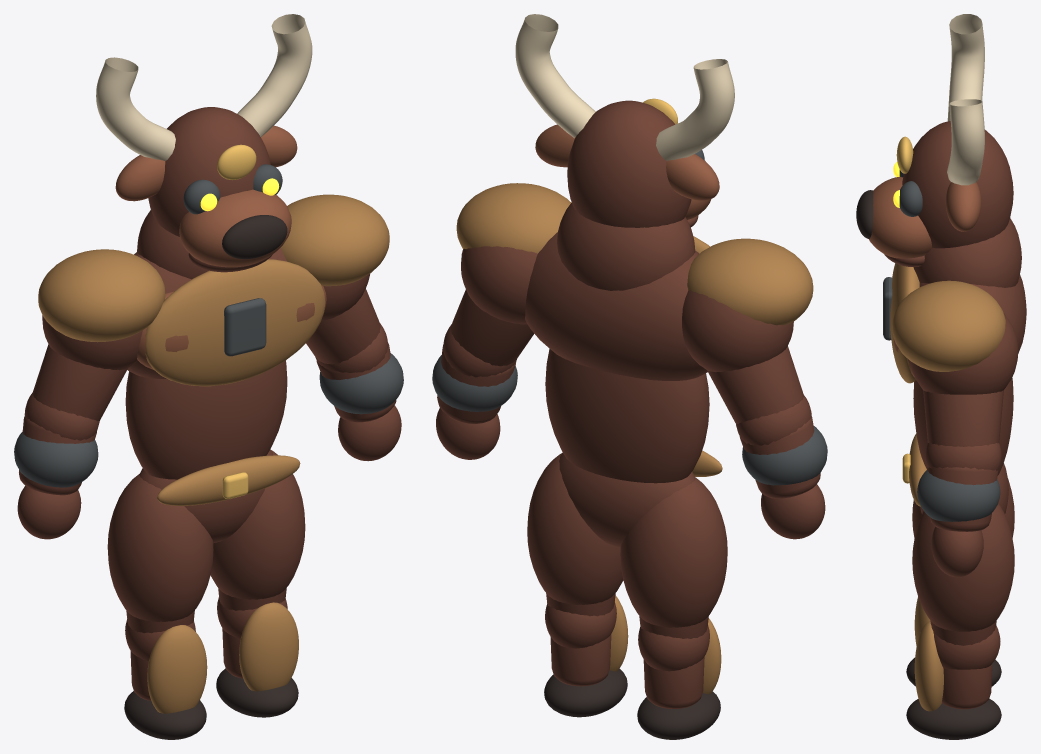
File: MinotaurModel.fbx
3 renders of one model, left to right at view 1: azimuth 30°, elevation 25°; view 2: azimuth 150°, elevation 25°; view 3: azimuth 270°, elevation 25°, orthographic. The views are drawn at different scales.
Visible parts, largest first — view 1: Bronze Chest Armour, Abdomen, Thigh Muscle, Bronze Shoulder Plate, Thigh Muscle.001, Bronze Shoulder Plate.001, Bull Head, Muzzle, Bronze Greave.001, Great Curved Horn.001, Bronze Greave, Great Curved Horn (+31 smaller); view 2: Abdomen, Massive Chest, Thigh Muscle, Bull Head, Thigh Muscle.001, Bronze Shoulder Plate, Thick Neck, Bronze Shoulder Plate.001, Shoulder Muscle, Pelvis, Great Curved Horn.001, Shoulder Muscle.001 (+23 smaller); view 3: Bronze Shoulder Plate.001, Thigh Muscle.001, Bull Head, Thick Neck, Upper Arm.001, Shoulder Muscle.001, Muzzle, Armoured Bracer.001, Great Curved Horn, Great Curved Horn.001, Hoof.001, Hand.001 (+19 smaller).
Boxes of the visible parts, x1,y1,x2,y2 form: Bronze Chest Armour: (145,259,325,386); Abdomen: (125,360,287,479); Thigh Muscle: (107,474,213,621); Bronze Shoulder Plate: (38,249,165,342); Thigh Muscle.001: (210,449,305,599); Bronze Shoulder Plate.001: (281,194,389,286); Bull Head: (148,107,270,236); Muzzle: (179,189,291,267); Bronze Greave.001: (239,602,298,691); Great Curved Horn.001: (237,14,312,136); Bronze Greave: (147,625,207,713); Great Curved Horn: (96,57,175,160); Abdomen: (545,348,709,483); Massive Chest: (525,232,707,380); Thigh Muscle: (620,477,727,627); Bull Head: (567,100,691,227); Thigh Muscle.001: (527,453,623,604); Bronze Shoulder Plate: (687,238,813,325); Thick Neck: (557,202,695,290); Bronze Shoulder Plate.001: (456,183,571,253); Shoulder Muscle: (682,290,793,372); Pelvis: (559,453,695,547); Great Curved Horn.001: (515,14,595,137); Shoulder Muscle.001: (461,246,537,324); Bronze Shoulder Plate.001: (892,280,1005,371); Thigh Muscle.001: (912,504,1014,631); Bull Head: (902,121,1013,248); Thick Neck: (913,218,1021,287); Upper Arm.001: (923,390,1003,446); Shoulder Muscle.001: (909,313,1018,394); Muzzle: (869,177,932,258); Armoured Bracer.001: (917,469,1000,521); Great Curved Horn: (947,14,984,121); Great Curved Horn.001: (947,99,984,185); Hoof.001: (906,698,1001,739); Hand.001: (931,526,983,577).
Size of what is drawn, in the model's own units: 354 by 604 by 143.
